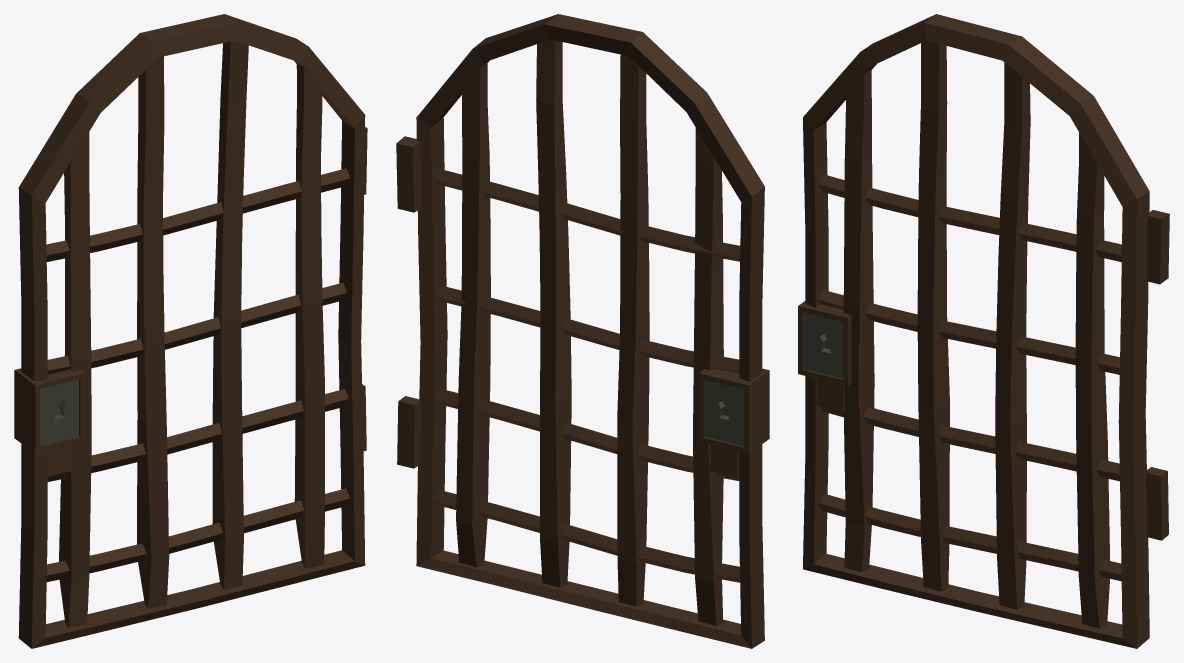
File: iron_door_R.gltf
3 views of the same model, side by side, from view 1: azimuth 30°, elevation 25°; view 2: azimuth 150°, elevation 25°; view 3: azimuth 330°, elevation 25° (orthographic).
Visible parts, largest first — view 1: Door_Iron_Right; view 2: Door_Iron_Right; view 3: Door_Iron_Right.
Boxes of the visible parts, x1,y1,x2,y2 form: Door_Iron_Right: (14,14,367,648); Door_Iron_Right: (396,14,769,648); Door_Iron_Right: (798,14,1169,648).
Size of the model in its own units: 1.34 by 2.12 by 0.1629.
1 material, 1 textured.
